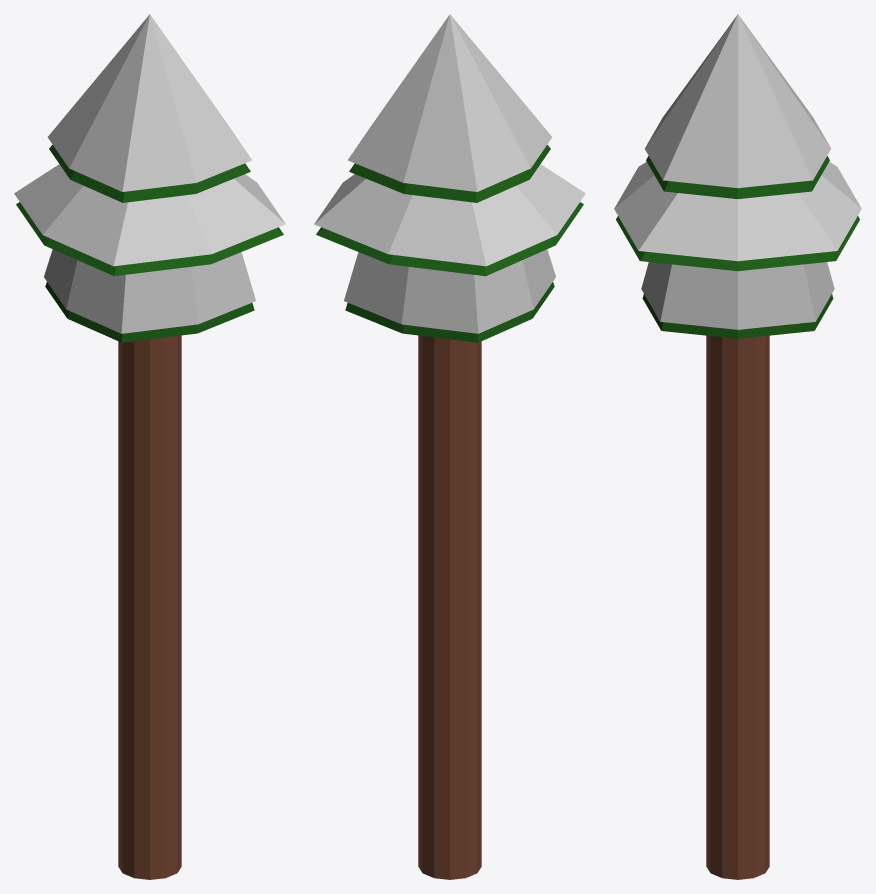
File: Tree_20_winter_vc.fbx
The picture shows the model from 3 angles, left to right: view 1: azimuth 30°, elevation 25°; view 2: azimuth 150°, elevation 25°; view 3: azimuth 270°, elevation 25°; orthographic projection.
Visible parts, largest first — view 1: Tree_20_winter_vc; view 2: Tree_20_winter_vc; view 3: Tree_20_winter_vc.
Boxes of the visible parts, x1,y1,x2,y2 form: Tree_20_winter_vc: [14, 14, 285, 879]; Tree_20_winter_vc: [314, 14, 585, 879]; Tree_20_winter_vc: [614, 14, 861, 879].
Bounding box in the file's own units: 226 × 856 × 226.
